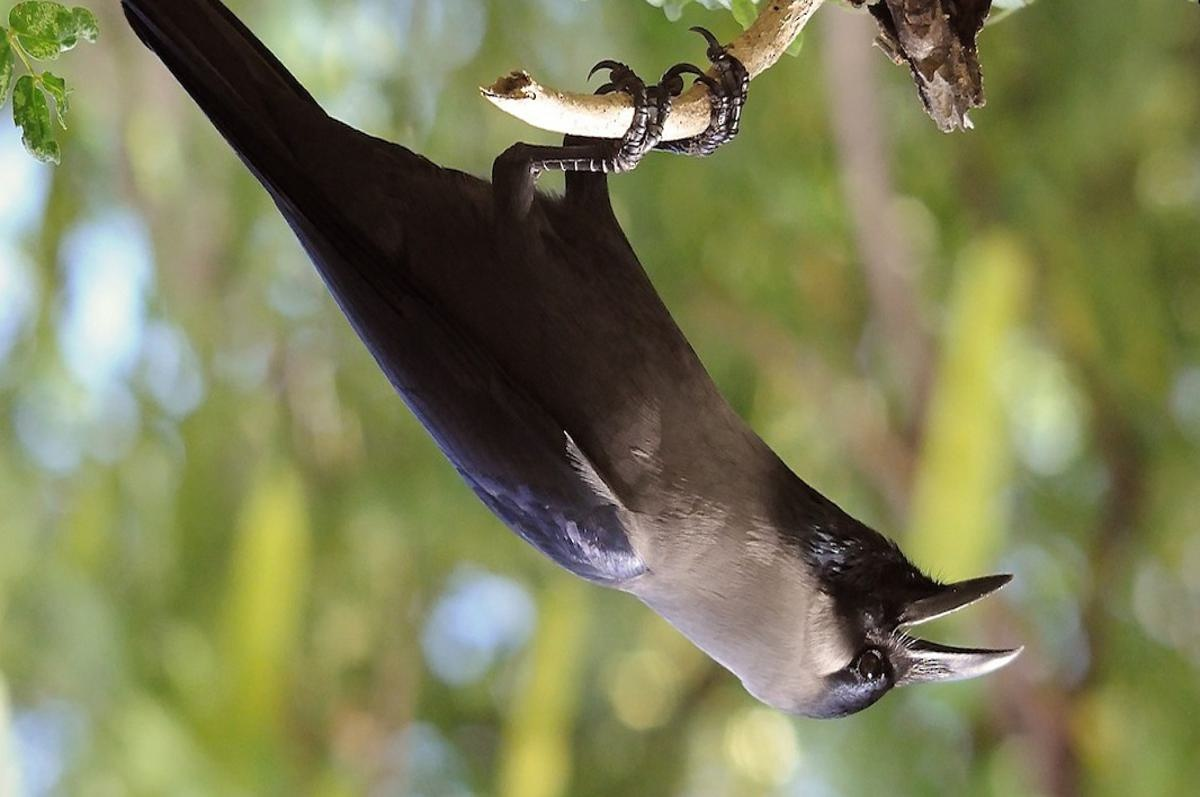crow: (1, 1, 1053, 706)
